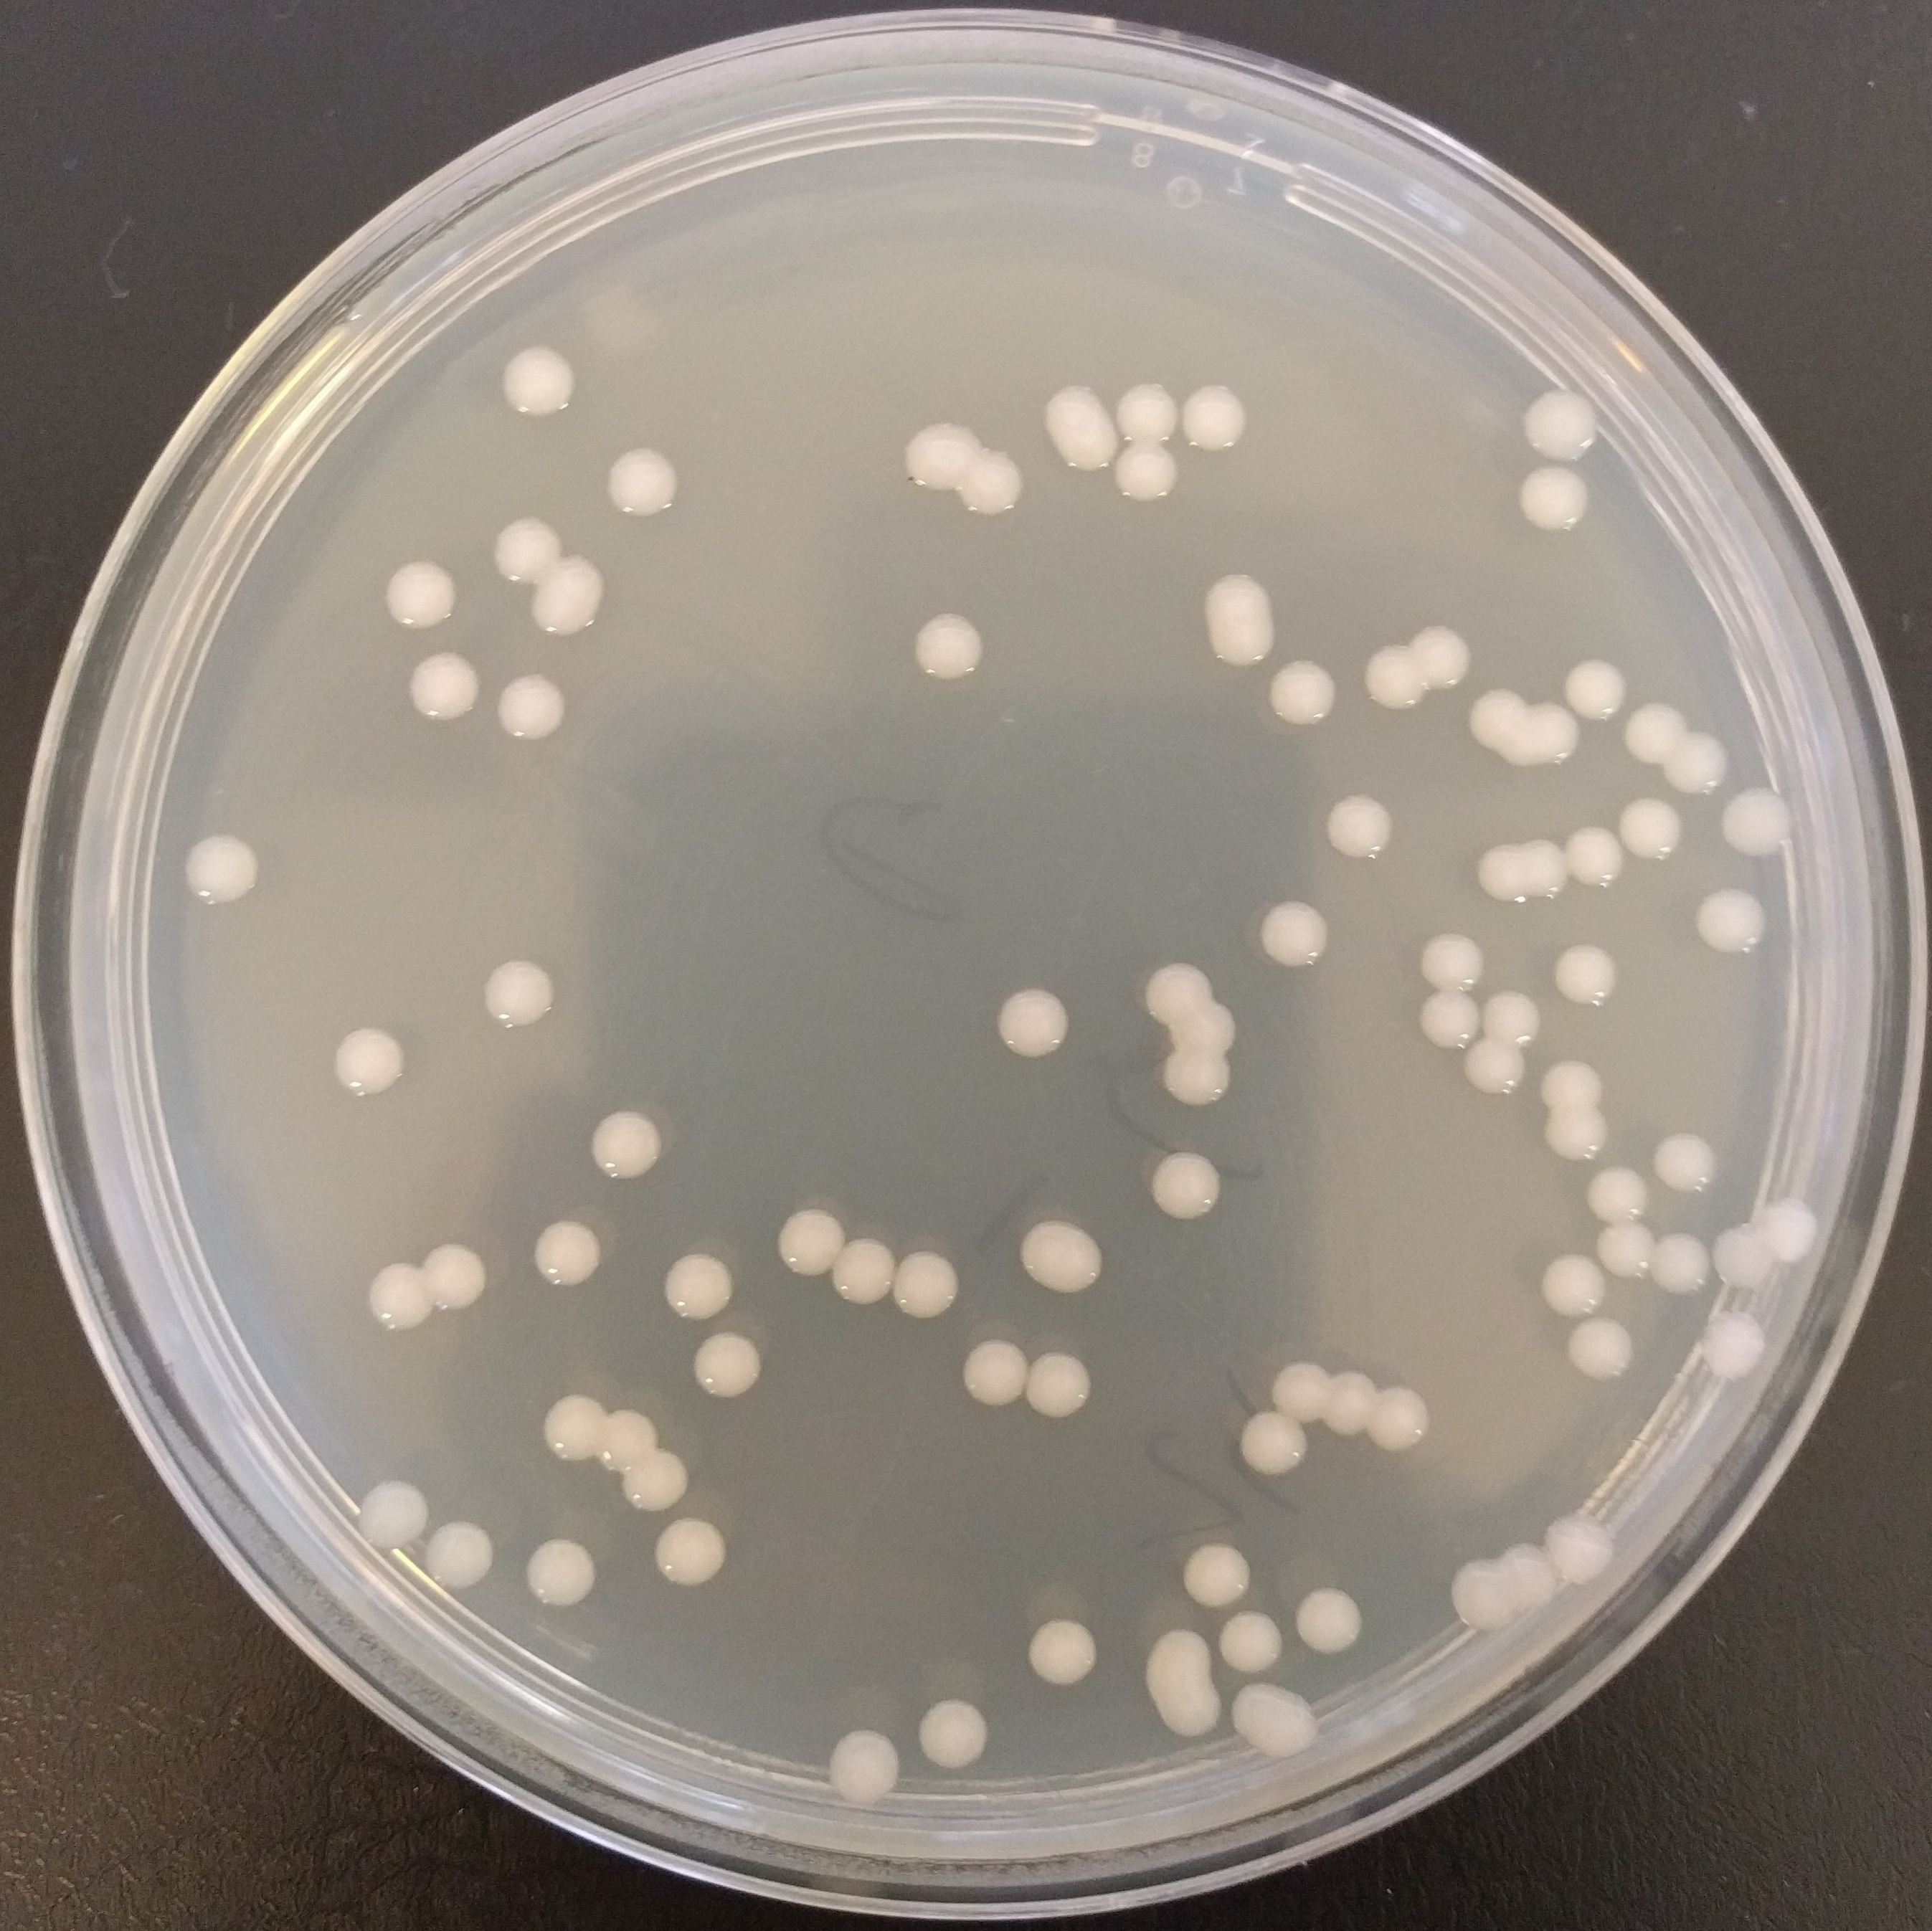sp13: (1231, 1680, 1323, 1767), (1017, 1217, 1111, 1298), (1040, 378, 1122, 470), (1516, 384, 1610, 463), (529, 557, 612, 645), (403, 645, 487, 730), (991, 980, 1074, 1063), (821, 1728, 906, 1809), (899, 417, 985, 497), (1541, 1512, 1614, 1606), (182, 828, 264, 911), (1691, 1307, 1775, 1388), (499, 340, 580, 421), (531, 1215, 610, 1298), (587, 1103, 665, 1188), (906, 607, 985, 688), (483, 950, 561, 1033), (771, 1202, 849, 1286), (1017, 1616, 1104, 1691), (1447, 1556, 1522, 1643), (1716, 785, 1798, 863), (1256, 895, 1334, 974), (602, 442, 683, 518), (916, 1692, 994, 1770), (522, 1535, 600, 1611), (354, 1477, 432, 1553), (1359, 640, 1424, 730), (380, 557, 460, 630), (1175, 1544, 1260, 1611), (363, 1259, 437, 1335), (425, 1517, 499, 1593), (1269, 654, 1341, 732), (1148, 1149, 1226, 1222), (1024, 1346, 1093, 1427), (955, 447, 1028, 523), (333, 1024, 409, 1096), (830, 1234, 902, 1310), (692, 1330, 768, 1402), (653, 1515, 729, 1588), (1405, 622, 1476, 700), (890, 1250, 959, 1330), (1537, 1248, 1612, 1321), (1235, 1408, 1311, 1478), (1488, 1542, 1564, 1613), (1564, 1316, 1640, 1386), (665, 1247, 734, 1324), (962, 1335, 1028, 1416), (1458, 1042, 1546, 1102), (1293, 1583, 1364, 1657), (492, 675, 568, 744), (1695, 884, 1767, 955), (1562, 653, 1633, 725), (1364, 1381, 1433, 1455), (1323, 792, 1399, 859), (423, 1241, 490, 1317), (1516, 470, 1596, 534), (1180, 380, 1251, 451), (1141, 962, 1215, 1029), (541, 1392, 609, 1466), (1553, 937, 1621, 1011), (490, 513, 559, 584), (1615, 796, 1686, 865), (1748, 1197, 1822, 1263), (1713, 1220, 1778, 1294), (1651, 1128, 1718, 1199), (1663, 729, 1730, 799), (1541, 1111, 1628, 1165), (1159, 1047, 1235, 1109), (619, 1448, 692, 1512), (1146, 1627, 1219, 1691), (1647, 1229, 1711, 1301), (1621, 700, 1690, 766), (1562, 820, 1628, 889), (1580, 1164, 1652, 1225), (1150, 1685, 1228, 1742), (1417, 928, 1484, 994), (1118, 440, 1182, 509), (1217, 1614, 1288, 1676), (1320, 1365, 1378, 1439), (1269, 1360, 1336, 1423), (1162, 1001, 1242, 1054), (1594, 1220, 1660, 1284), (1532, 1059, 1610, 1112), (1113, 380, 1177, 444), (598, 1408, 660, 1473), (1465, 686, 1530, 748), (1201, 619, 1281, 668), (1415, 996, 1484, 1050), (1200, 571, 1276, 621), (1527, 704, 1582, 771), (1474, 838, 1527, 907), (1483, 990, 1545, 1047), (1522, 835, 1564, 909)
